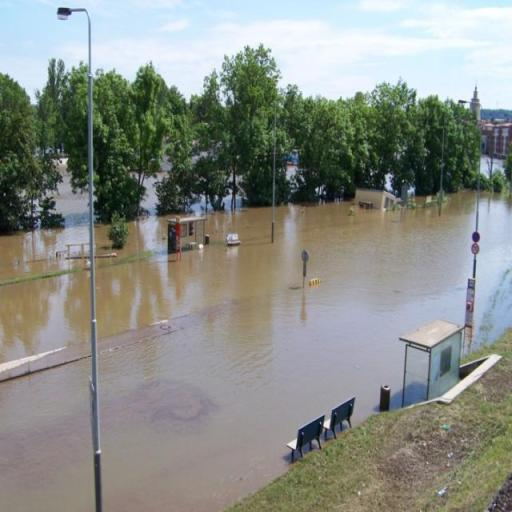flood: (97, 193, 475, 512), (0, 361, 92, 512), (0, 158, 88, 287), (0, 271, 88, 364), (95, 178, 166, 268), (477, 195, 512, 344), (482, 154, 506, 177)
house: (170, 208, 220, 258), (354, 186, 399, 212), (483, 118, 512, 157)
